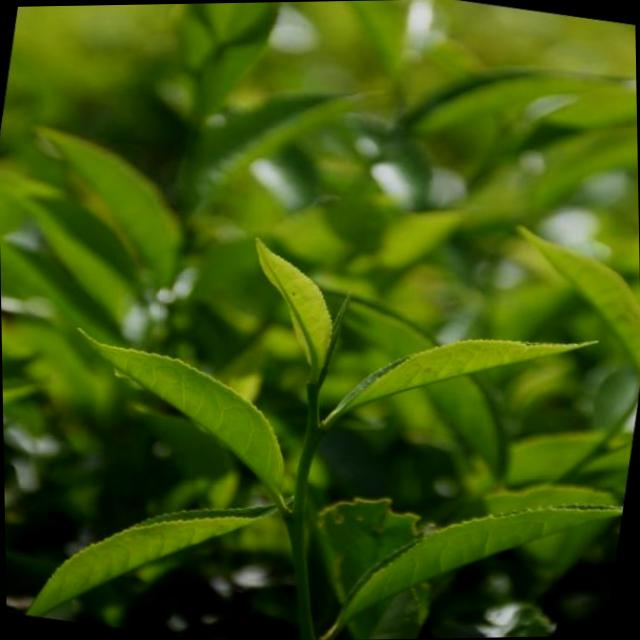Stem: (306, 384, 316, 396)
